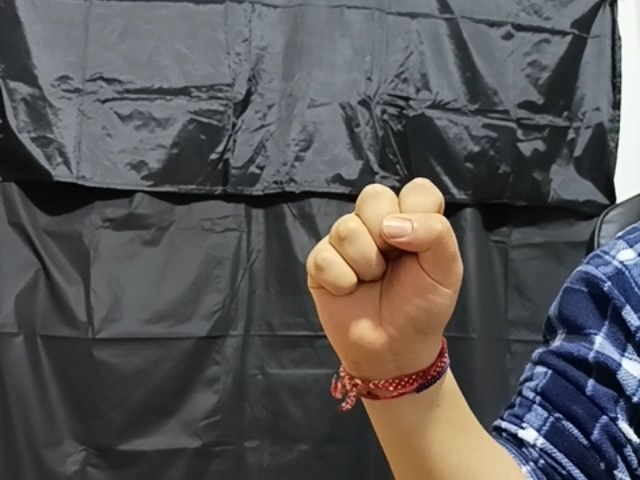S: (299, 167, 467, 371)
